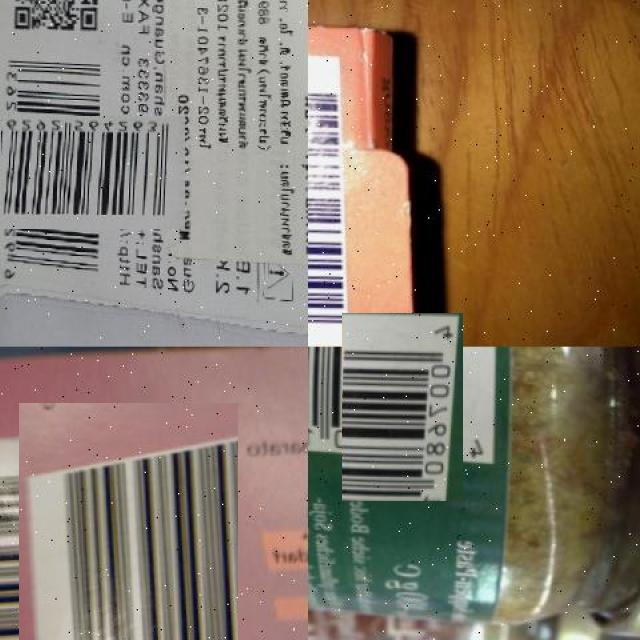Barcode: (10, 412, 247, 640), (0, 80, 150, 265), (325, 330, 480, 485)
